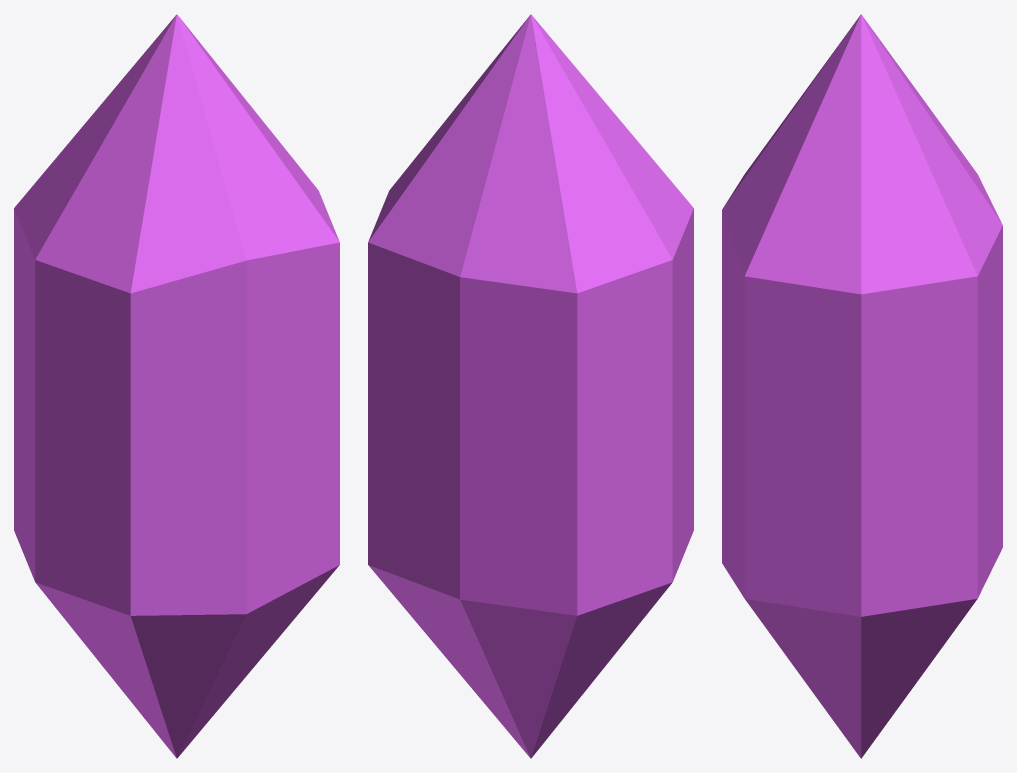
File: DropCristal.fbx
3 renders of one model, left to right at view 1: azimuth 30°, elevation 25°; view 2: azimuth 150°, elevation 25°; view 3: azimuth 270°, elevation 25°, orthographic.
Parts seen in each view (by area): view 1: Icosphere; view 2: Icosphere; view 3: Icosphere.
Part boxes in pixels (x1,y1,x2,y2): Icosphere: (14,14,339,758); Icosphere: (368,14,693,758); Icosphere: (722,14,1002,758).
Bounding box in the file's own units: 206 × 518 × 177.
Materials: 1 (1 with a texture image).
